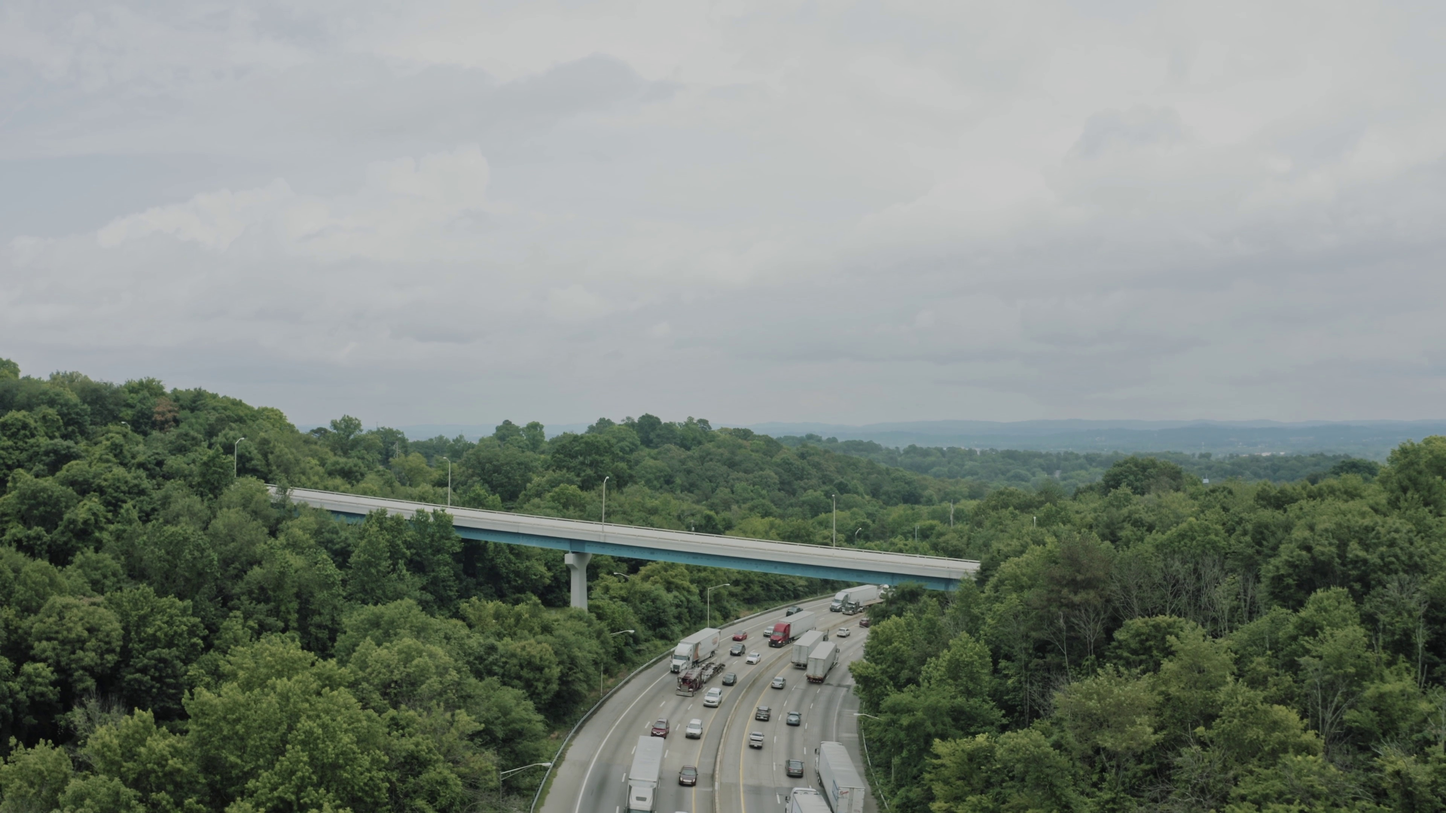Vehicle: (622, 781, 661, 812), (811, 739, 846, 769), (675, 667, 703, 697), (671, 642, 693, 674), (766, 623, 792, 648), (830, 589, 851, 613), (703, 687, 723, 708), (678, 765, 698, 786), (651, 718, 670, 739), (815, 626, 834, 647), (685, 718, 703, 739), (785, 759, 804, 777), (841, 600, 863, 615), (748, 731, 764, 749), (755, 706, 771, 721), (786, 711, 801, 726), (729, 643, 746, 656), (745, 651, 761, 664), (762, 622, 776, 636), (722, 673, 737, 686), (771, 677, 786, 689), (786, 606, 803, 616), (836, 627, 850, 638), (732, 631, 747, 641), (859, 617, 870, 626), (674, 811, 689, 813)
